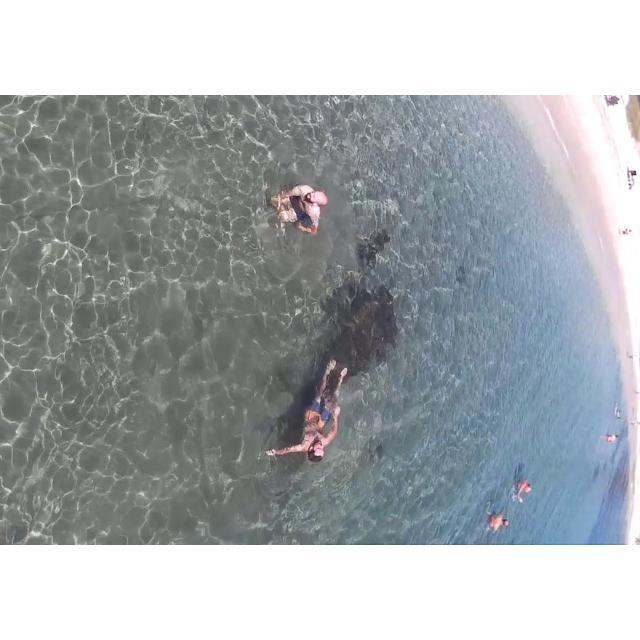human: (253, 356, 370, 494), (257, 176, 336, 263), (516, 462, 535, 512), (485, 506, 509, 536), (603, 430, 626, 448)
